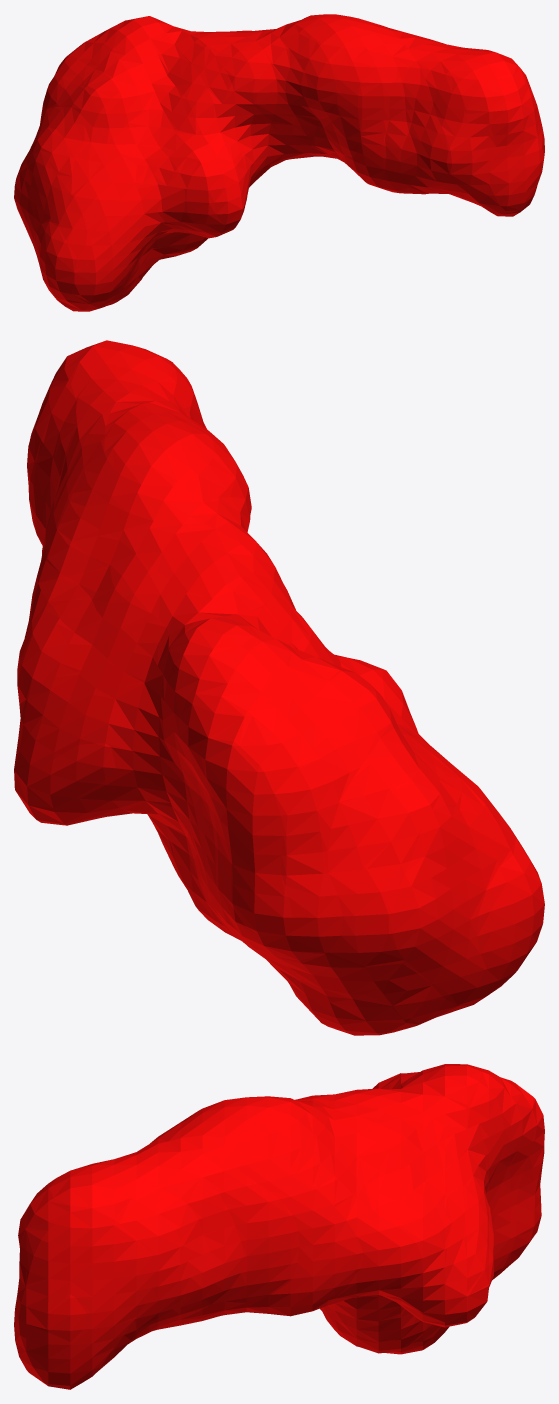
File: greA_coarse.dae
3 renders of one model, top to bottom at view 1: azimuth 30°, elevation 25°; view 2: azimuth 150°, elevation 25°; view 3: azimuth 270°, elevation 25°, orthographic. The views are drawn at different scales.
Parts seen in each view (by area): view 1: greA; view 2: greA; view 3: greA.
Part boxes in pixels (<box>): greA: <box>14,14,544,311</box>; greA: <box>14,340,544,1035</box>; greA: <box>14,1064,544,1389</box>.
Size of the model in its own units: 62.91 by 41.97 by 55.69.
